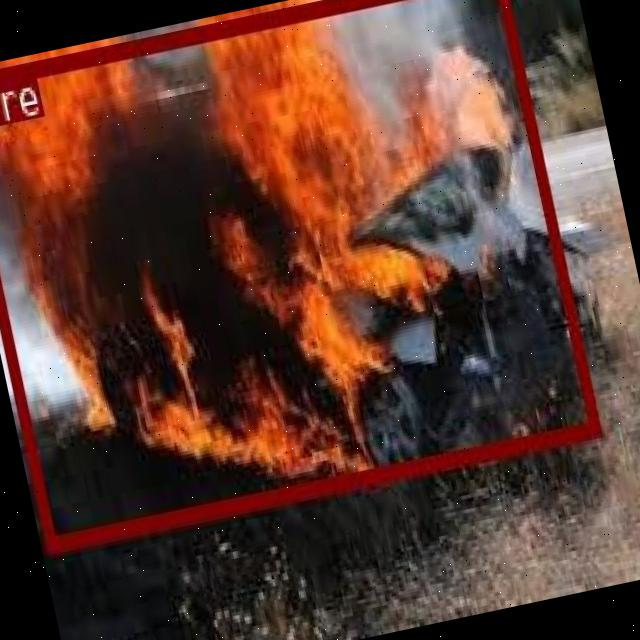fire: (0, 0, 599, 550)
